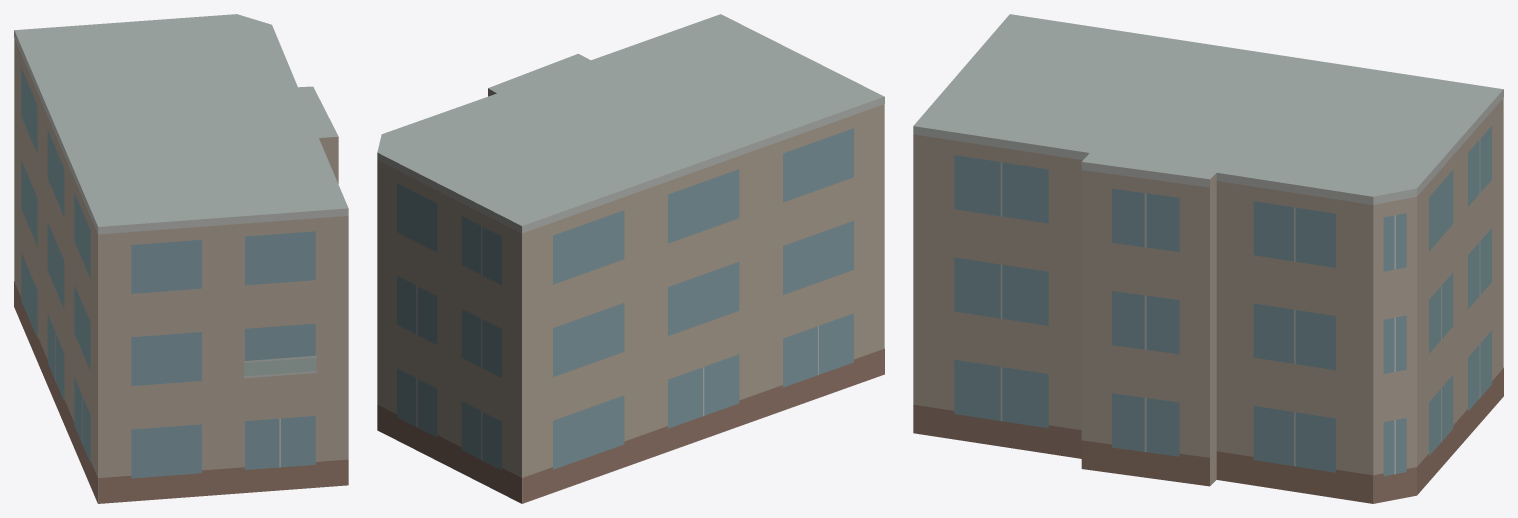
Rendered from survey-upis-32893558.glb.
3 renders of one model, left to right at view 1: azimuth 30°, elevation 25°; view 2: azimuth 150°, elevation 25°; view 3: azimuth 270°, elevation 25°, orthographic. The views are drawn at different scales.
Parts seen in each view (by area): view 1: survey-upis-32893558.tmp; view 2: survey-upis-32893558.tmp; view 3: survey-upis-32893558.tmp.
Part boxes in pixels (x1=…): survey-upis-32893558.tmp: x1=14, y1=14, x2=348, y2=503; survey-upis-32893558.tmp: x1=377, y1=14, x2=884, y2=503; survey-upis-32893558.tmp: x1=913, y1=14, x2=1503, y2=503.
Bounding box in the file's own units: 11.63 × 9.1 × 15.87.
